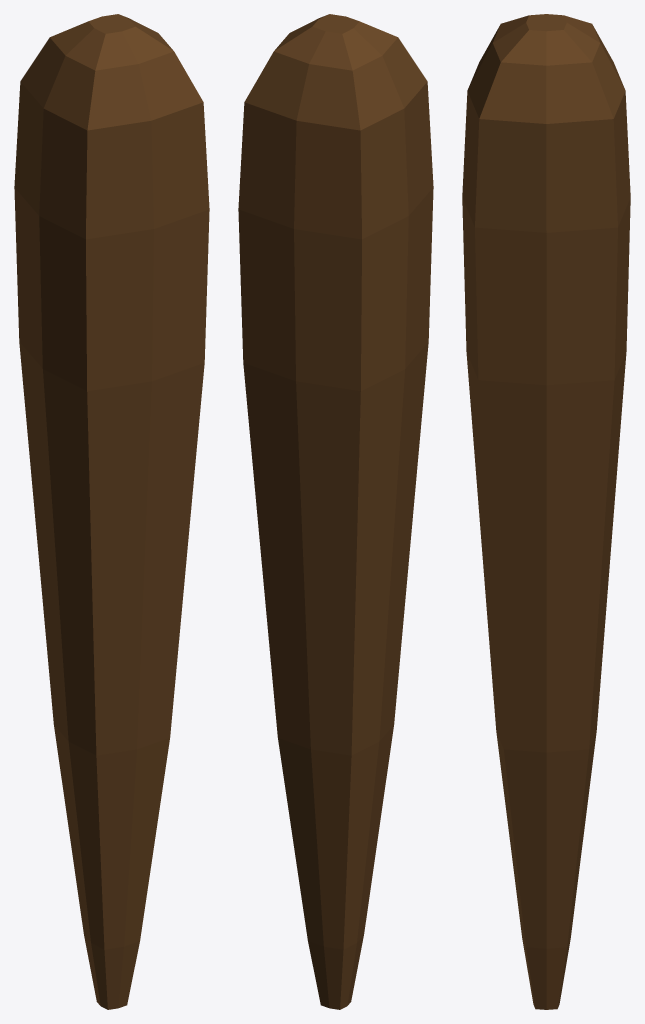
Rendered from torch.fbx.
3 renders of one model, left to right at view 1: azimuth 30°, elevation 25°; view 2: azimuth 150°, elevation 25°; view 3: azimuth 270°, elevation 25°, orthographic.
Visible parts, largest first — view 1: Cube; view 2: Cube; view 3: Cube.
Part boxes in pixels (box(x1,y1,x2,y2)): Cube: box(14, 14, 209, 1009); Cube: box(238, 14, 433, 1009); Cube: box(462, 14, 630, 1009).
Bounding box in the file's own units: 95.28 × 613 × 95.28.
